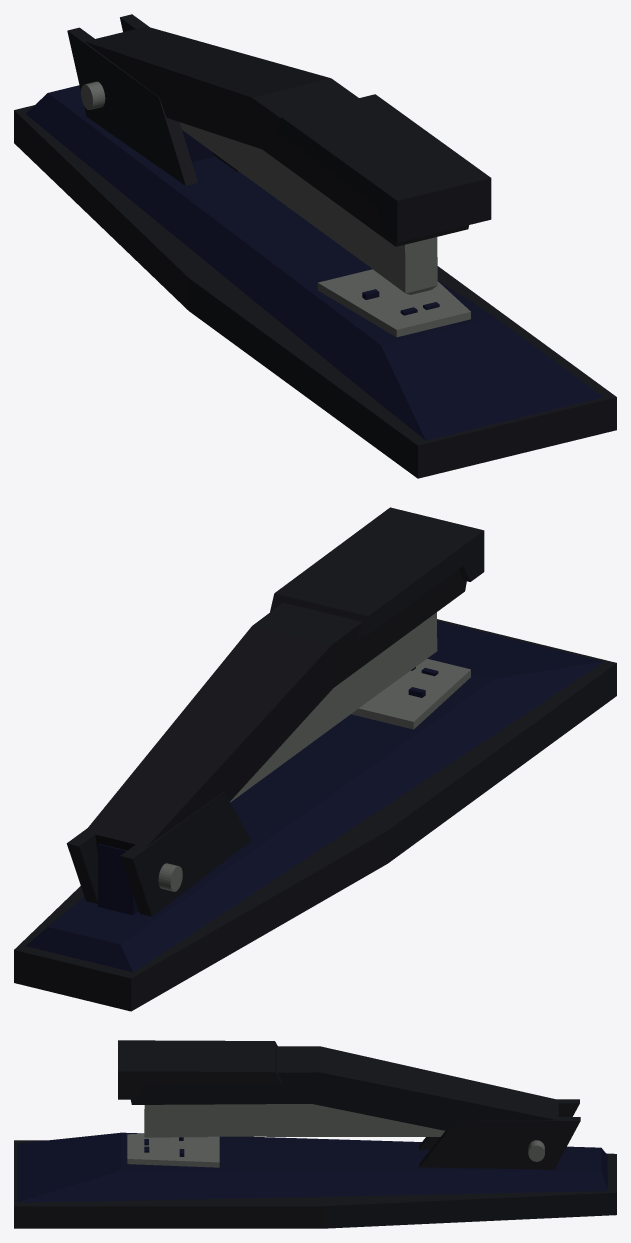
File: grampeador.fbx
The picture shows the model from 3 angles, top to bottom: view 1: azimuth 30°, elevation 25°; view 2: azimuth 150°, elevation 25°; view 3: azimuth 270°, elevation 25°; orthographic projection. The views are drawn at different scales.
Parts seen in each view (by area): view 1: Cube.001, Cube, Cube.011, Cube.012, Cube.010, Cube.008, Cube.002; view 2: Cube.001, Cube.011, Cube, Cube.012, Cube.008, Cube.010, Cube.002, Cube.009, Cube.007; view 3: Cube.001, Cube, Cube.011, Cube.010, Cube.012, Cube.007, Cube.002, Cube.008, Cylinder.
Boxes of the visible parts, bbox=[...] form: Cube.001: bbox=[26, 85, 603, 440]; Cube: bbox=[14, 105, 616, 478]; Cube.011: bbox=[85, 26, 468, 246]; Cube.012: bbox=[276, 94, 491, 242]; Cube.010: bbox=[179, 122, 437, 294]; Cube.008: bbox=[67, 27, 198, 185]; Cube.002: bbox=[317, 269, 470, 337]; Cube.001: bbox=[26, 621, 603, 972]; Cube.011: bbox=[85, 569, 466, 851]; Cube: bbox=[14, 619, 616, 1011]; Cube.012: bbox=[270, 507, 484, 637]; Cube.008: bbox=[120, 792, 250, 916]; Cube.010: bbox=[230, 612, 437, 802]; Cube.002: bbox=[351, 658, 470, 729]; Cube.009: bbox=[98, 844, 138, 915]; Cube.007: bbox=[66, 828, 97, 903]; Cube.001: bbox=[17, 1132, 607, 1202]; Cube: bbox=[14, 1140, 616, 1228]; Cube.011: bbox=[131, 1046, 558, 1131]; Cube.010: bbox=[144, 1104, 444, 1137]; Cube.012: bbox=[118, 1040, 281, 1099]; Cube.007: bbox=[419, 1117, 580, 1169]; Cube.002: bbox=[127, 1133, 219, 1167]; Cube.008: bbox=[419, 1099, 579, 1149]; Cylinder: bbox=[528, 1140, 544, 1161].
Size of the model in its own units: 224 by 224 by 867.
